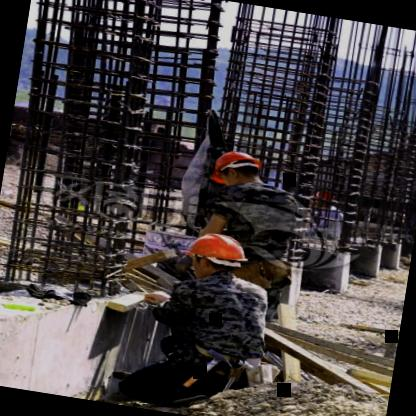helmet: (174, 218, 258, 292), (200, 142, 276, 199)
